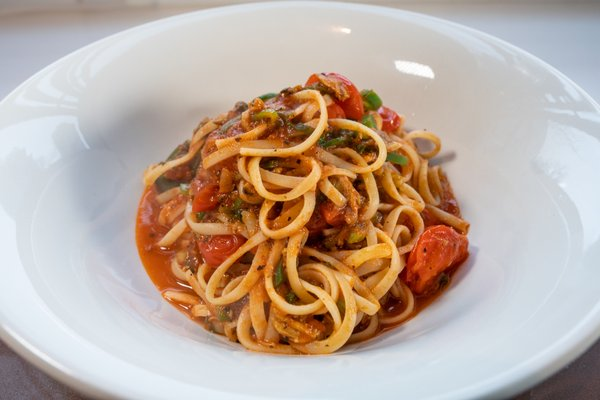sushi: (13, 2, 598, 396)
